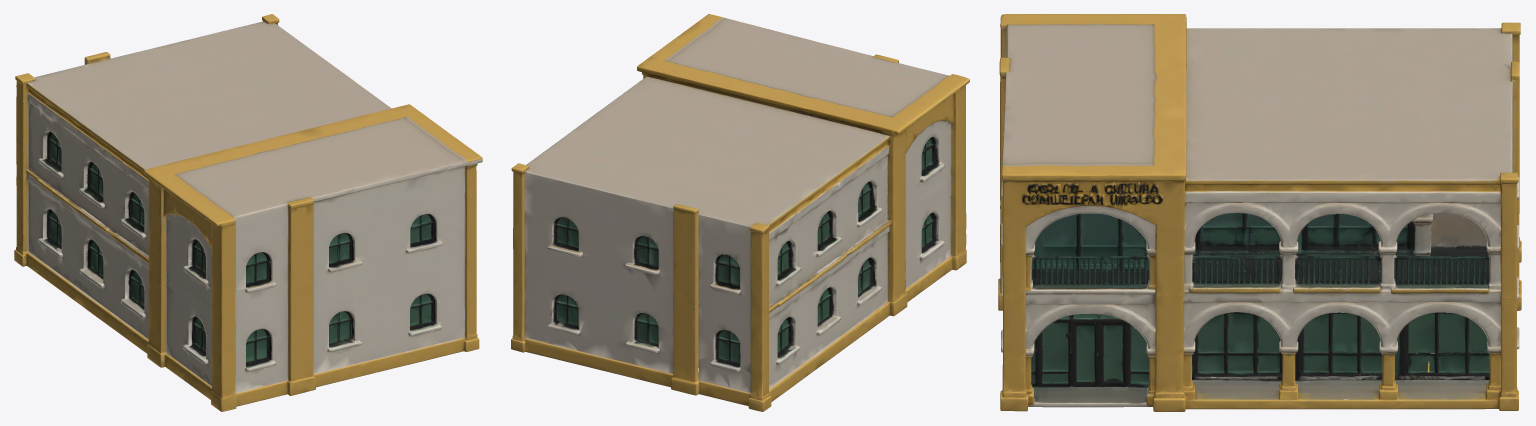
File: casacultura.glb
The picture shows the model from 3 angles, left to right: view 1: azimuth 30°, elevation 25°; view 2: azimuth 150°, elevation 25°; view 3: azimuth 270°, elevation 25°; orthographic projection. The views are drawn at different scales.
Visible parts, largest first — view 1: tripo_node_34128311-601b-49a2-bcf6-311b5533fe11; view 2: tripo_node_34128311-601b-49a2-bcf6-311b5533fe11; view 3: tripo_node_34128311-601b-49a2-bcf6-311b5533fe11.
Part boxes in pixels (box(x1,y1,x2,y2)): tripo_node_34128311-601b-49a2-bcf6-311b5533fe11: box(14, 14, 482, 411); tripo_node_34128311-601b-49a2-bcf6-311b5533fe11: box(511, 14, 969, 411); tripo_node_34128311-601b-49a2-bcf6-311b5533fe11: box(998, 14, 1521, 411).
Size of the model in its own units: 0.7389 by 0.5055 by 1.
1 material, 1 textured.
